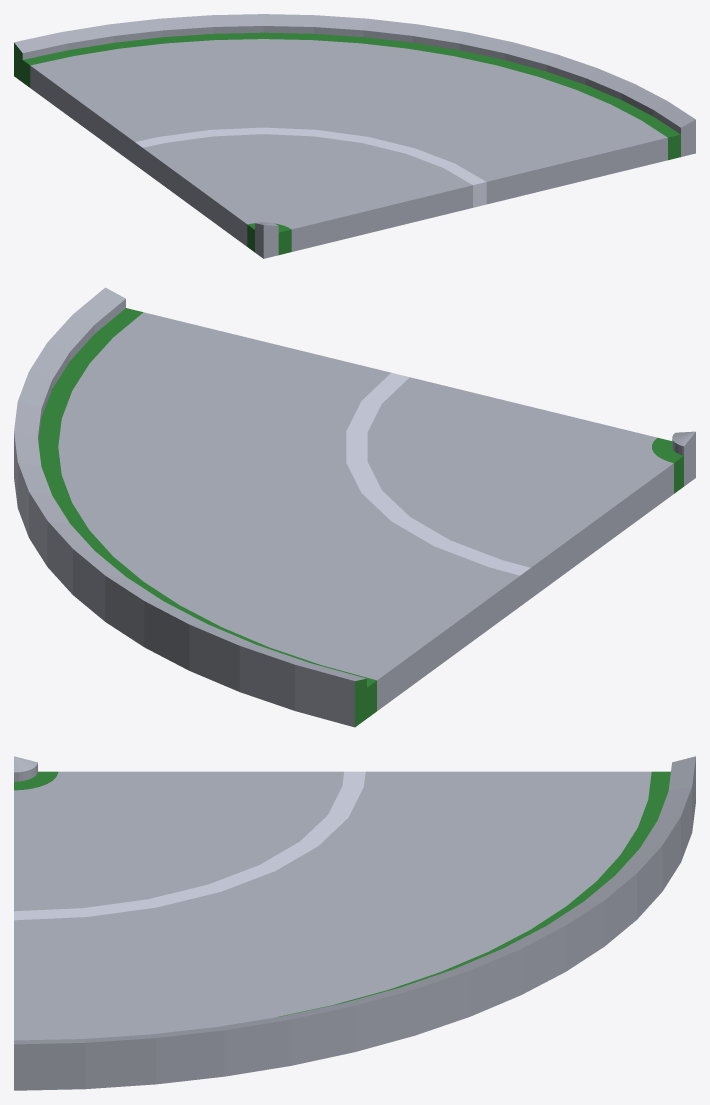
Rendered from flat_sharp_turn.glb.
The picture shows the model from 3 angles, top to bottom: view 1: azimuth 30°, elevation 25°; view 2: azimuth 150°, elevation 25°; view 3: azimuth 270°, elevation 25°; orthographic projection. The views are drawn at different scales.
Parts seen in each view (by area): view 1: flat_sharp_turn; view 2: flat_sharp_turn; view 3: flat_sharp_turn.
Part boxes in pixels (x1,y1,x2,y2): flat_sharp_turn: (14,14,695,258); flat_sharp_turn: (14,287,695,727); flat_sharp_turn: (14,756,695,1090).
Bounding box in the file's own units: 20 × 1.5 × 20.
